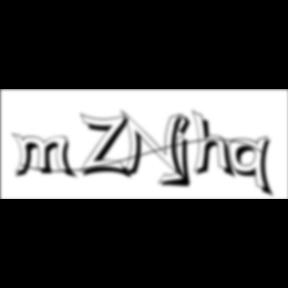N: (121, 109, 191, 183)
Z: (80, 112, 136, 181)
h: (192, 108, 238, 182)
j: (170, 113, 198, 191)
m: (11, 132, 79, 181)
q: (230, 135, 278, 200)
